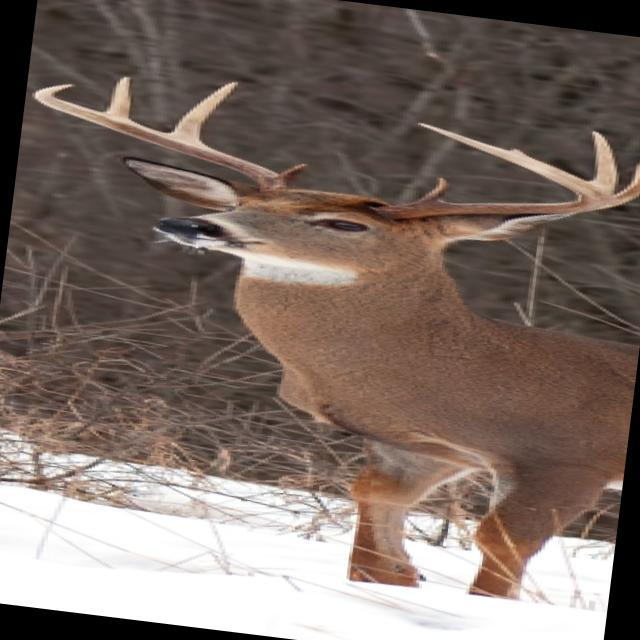L-F: (365, 121, 624, 219)
L-G1: (413, 176, 451, 201)
L-G2: (614, 155, 640, 203)
L-G3: (587, 130, 619, 193)
R-F: (30, 82, 296, 191)
R-G1: (279, 163, 310, 181)
R-G2: (167, 80, 240, 144)
R-G3: (102, 75, 132, 120)
